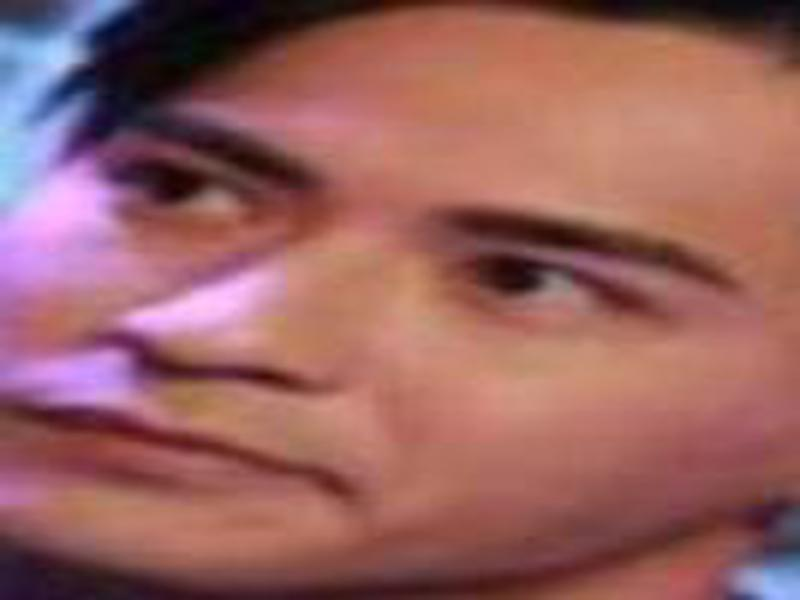without_mask: (6, 38, 787, 591)
